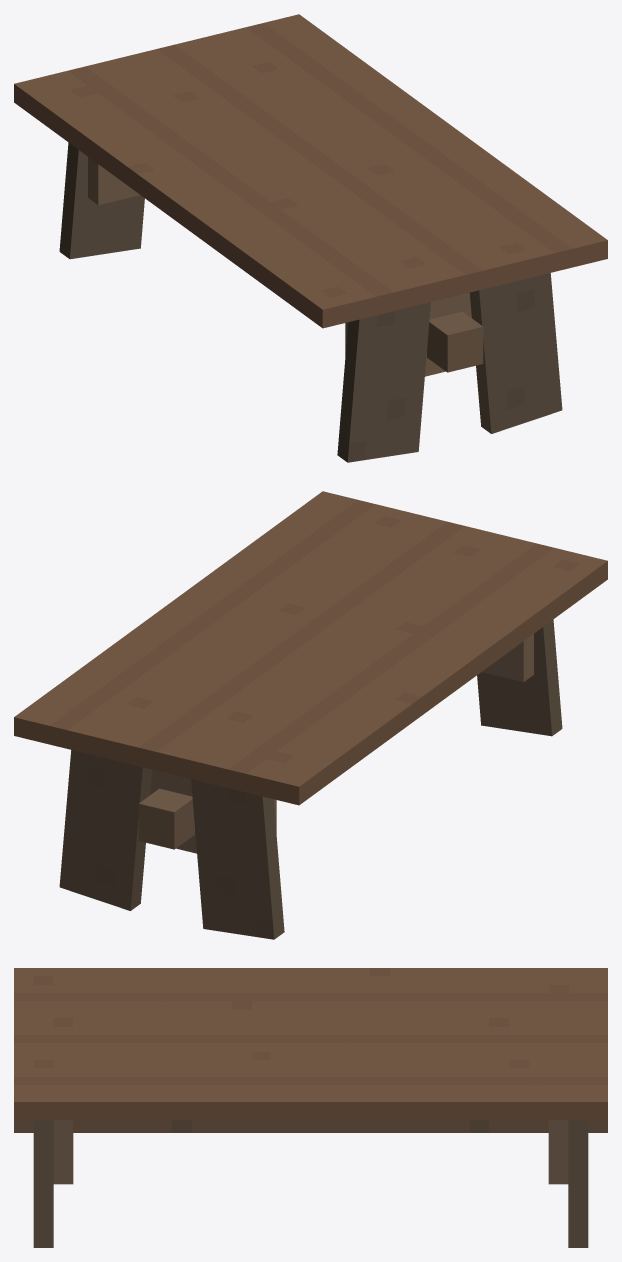
Rendered from table.gltf.
The picture shows the model from 3 angles, top to bottom: view 1: azimuth 30°, elevation 25°; view 2: azimuth 150°, elevation 25°; view 3: azimuth 270°, elevation 25°; orthographic projection. The views are drawn at different scales.
Visible parts, largest first — view 1: cube (×7); view 2: cube (×7); view 3: cube (×6).
Boxes of the visible parts, x1,y1,x2,y2 form: cube (×7): (14,14,607,462); cube (×7): (14,491,607,939); cube (×6): (14,968,607,1247).
Size of the model in its own units: 1 by 0.5882 by 1.88.
1 material, 1 textured.
